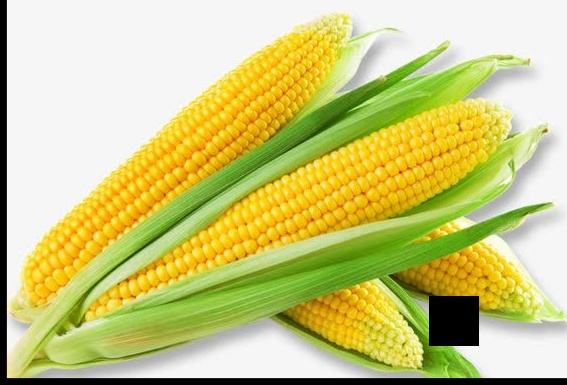corn: (13, 16, 352, 311), (82, 96, 508, 323)
